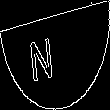N_N: (41, 27, 69, 83)
